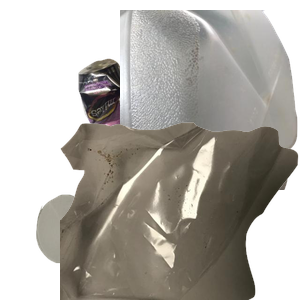glass: (34, 192, 187, 300)
metal: (75, 56, 198, 185)
plastic: (120, 10, 300, 190)
trash: (60, 120, 300, 300)
